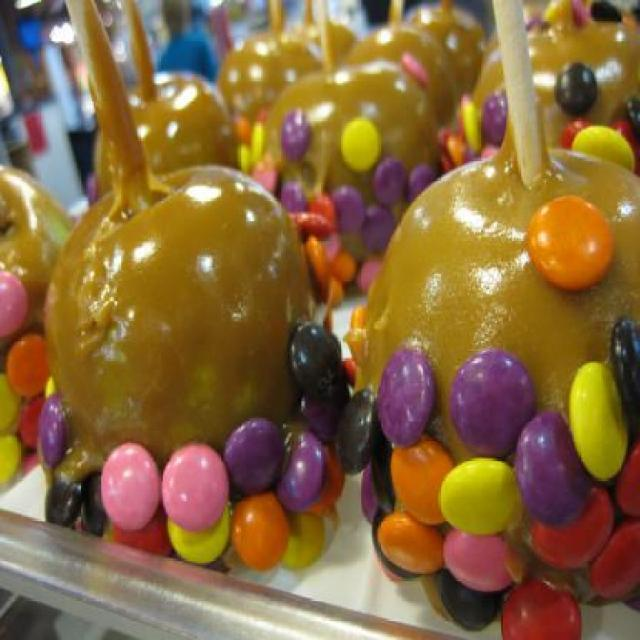Candy: (3, 42, 640, 613)
